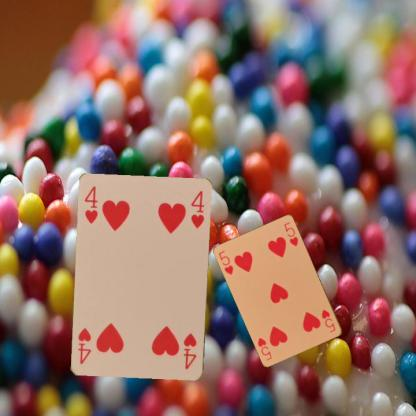4h: (181, 330, 198, 371), (82, 184, 99, 224)
5h: (216, 248, 235, 276), (319, 307, 337, 334)
